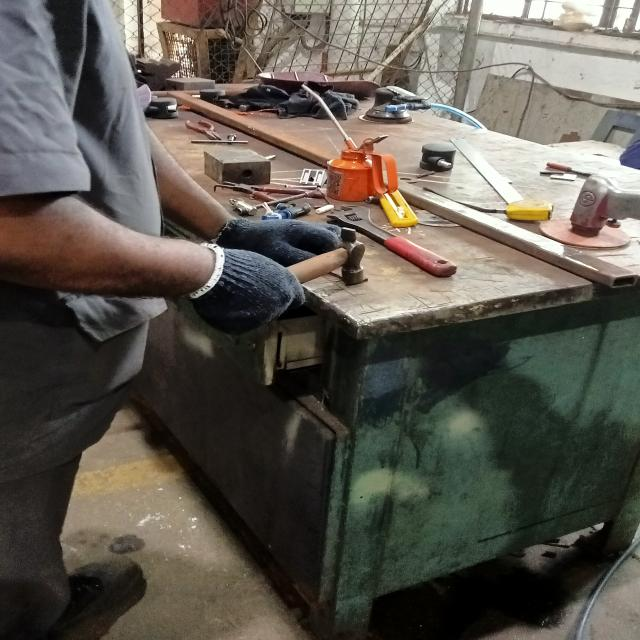Gloves-Detection: (197, 236, 292, 332), (210, 220, 345, 268)
